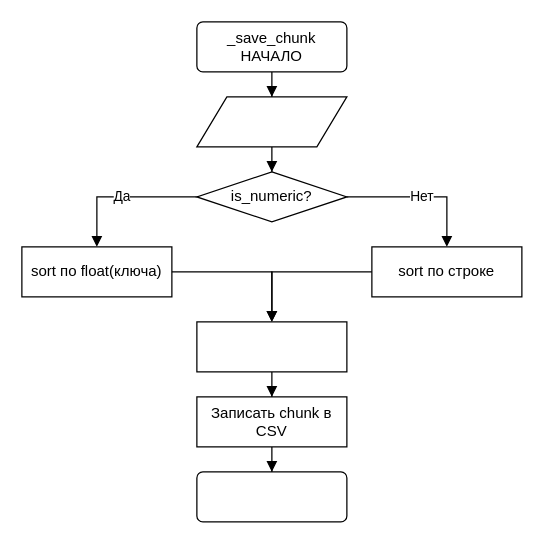
Some shapes in this 544 by 544 pixel diagram are drawn without their labels. Each missing label, with the centre of its shape:
chunk, file_index: point (271, 121)
КОНЕЦ _save_chunk: point (271, 496)
Сформировать имя temp-файла: point (271, 346)
